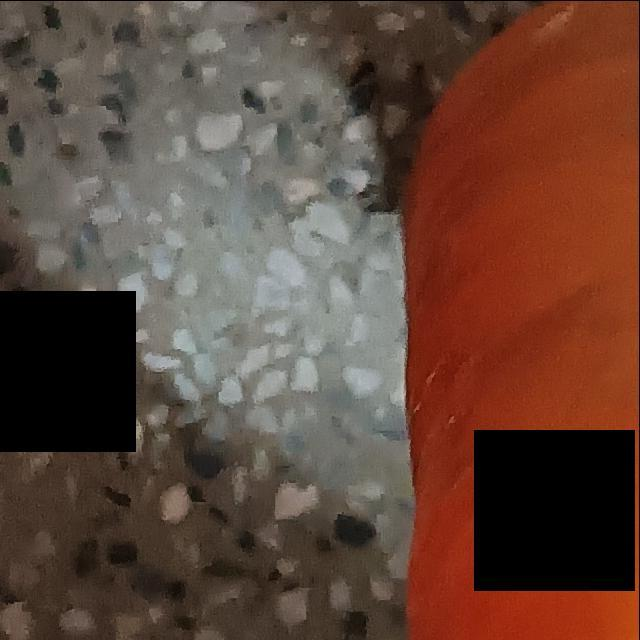carrot: (387, 1, 640, 640)
